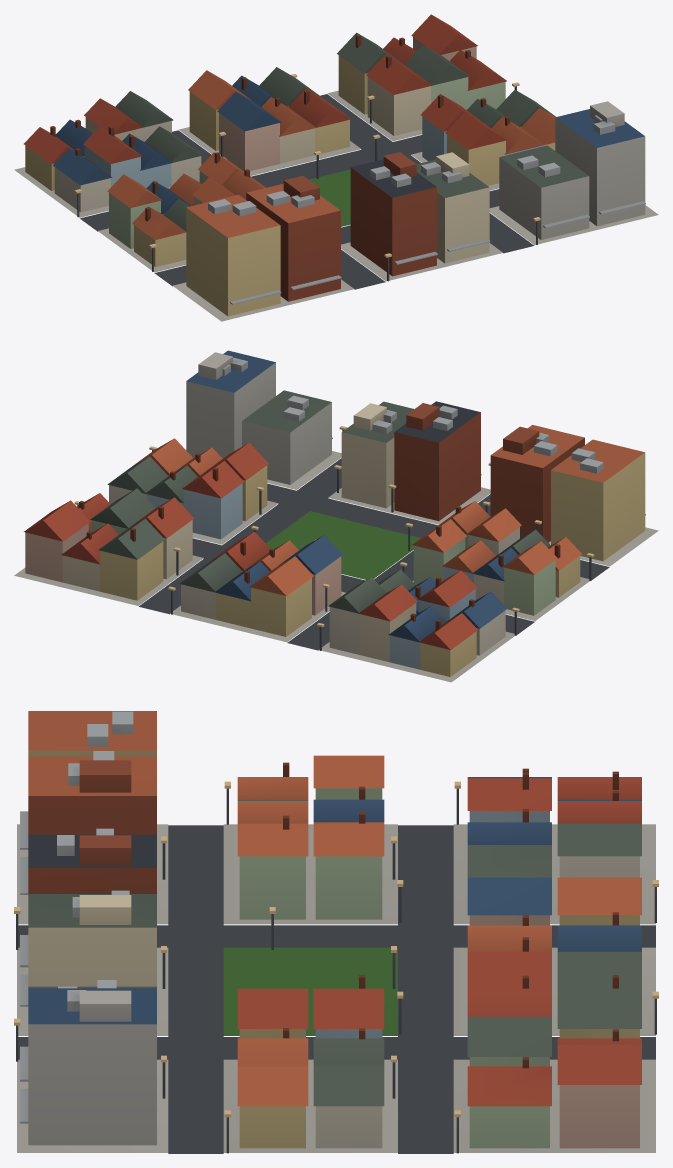
File: district_riverside.fbx
3 renders of one model, top to bottom at view 1: azimuth 30°, elevation 25°; view 2: azimuth 150°, elevation 25°; view 3: azimuth 270°, elevation 25°, orthographic. The views are drawn at different scales.
Visible parts, largest first — view 1: district_riverside; view 2: district_riverside; view 3: district_riverside.
Part boxes in pixels (x1=…): district_riverside: x1=14, y1=14, x2=658, y2=321; district_riverside: x1=14, y1=350, x2=658, y2=682; district_riverside: x1=14, y1=711, x2=658, y2=1153.
Size of the model in its own units: 113 by 22.15 by 92.9.
